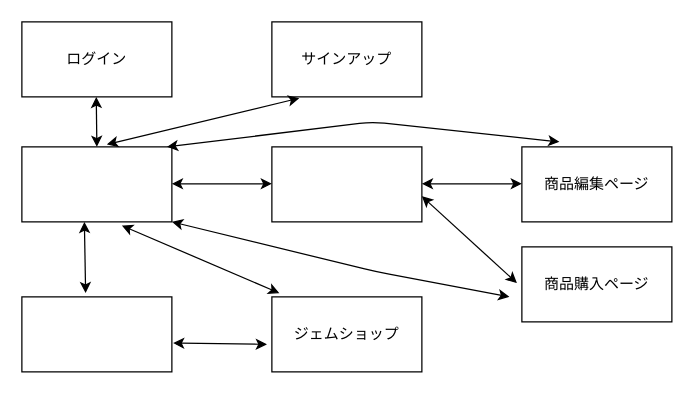
The diagram is 694 pixels wide and 394 high, and some of its shapes have lost their labels. Each missing label, with the centre of its shape:
クエストページ: (x=96, y=334)
トップページ: (x=96, y=184)
商品詳細ページ: (x=346, y=184)
